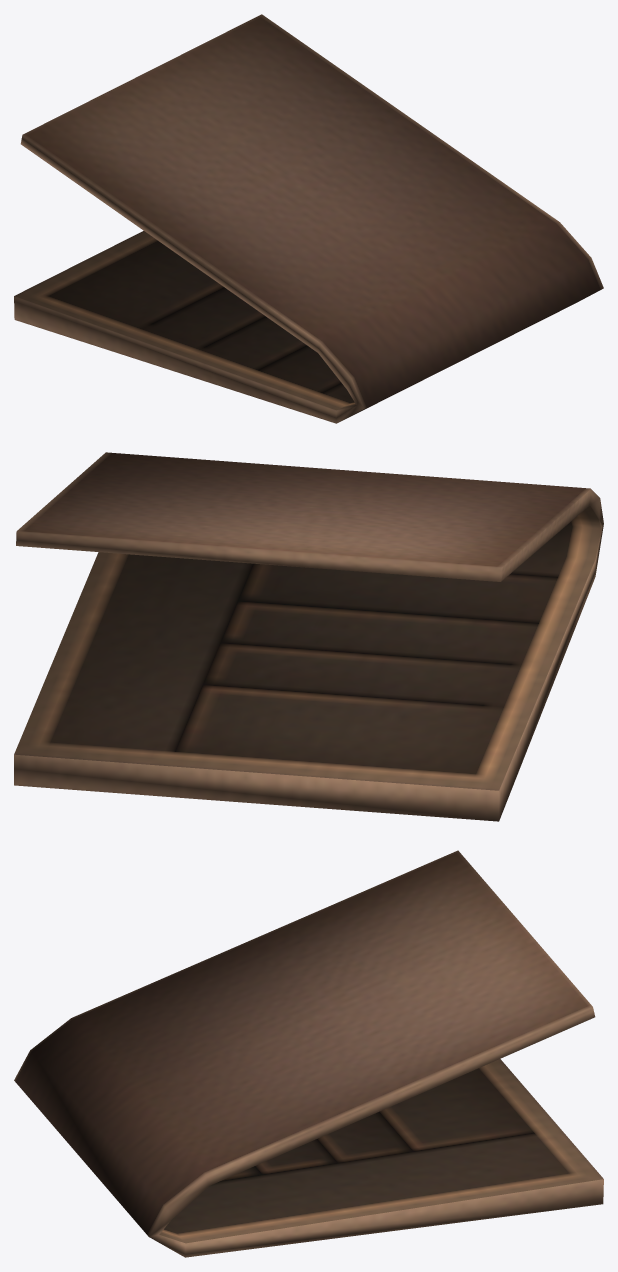
Rendered from MaLuBian_01_qianbao_01.FBX.
The picture shows the model from 3 angles, top to bottom: view 1: azimuth 30°, elevation 25°; view 2: azimuth 150°, elevation 25°; view 3: azimuth 270°, elevation 25°; orthographic projection. The views are drawn at different scales.
Parts seen in each view (by area): view 1: MaLuBian_01_qianbao_01; view 2: MaLuBian_01_qianbao_01; view 3: MaLuBian_01_qianbao_01.
Part boxes in pixels (<box>): MaLuBian_01_qianbao_01: <box>14,14,603,423</box>; MaLuBian_01_qianbao_01: <box>14,452,603,821</box>; MaLuBian_01_qianbao_01: <box>14,850,603,1257</box>.
Bounding box in the file's own units: 87.62 × 35.87 × 96.44.
